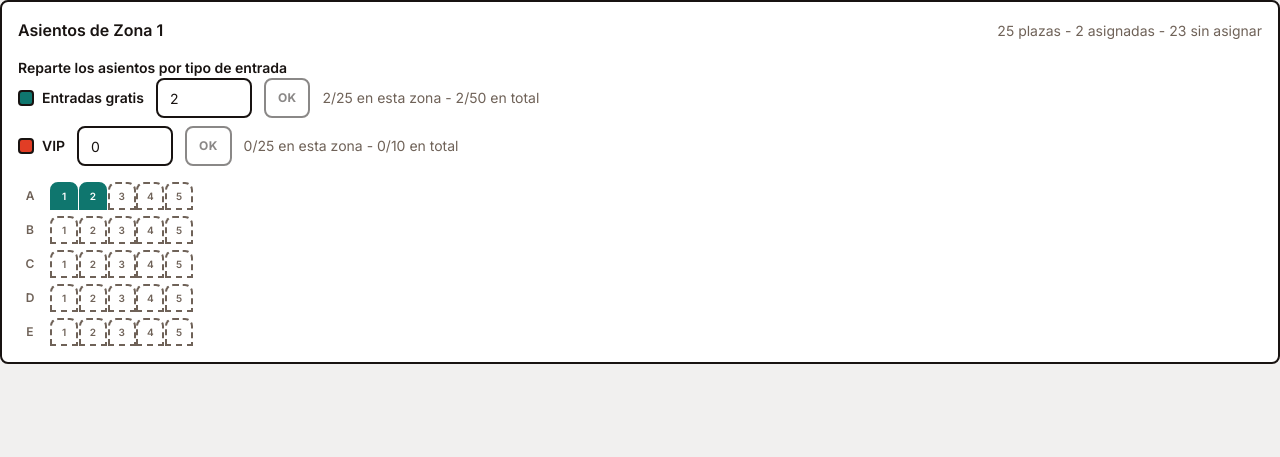
Test: ZoneSeatEditor › moving a seat › only offers moving when exactly one seat is selected
The width and height of the screenshot is (1280, 457).
What coordinates should you click on to do the following:
click the button named "Asiento A1 Entradas gratis"
I would click on:
 (64, 196)
Its box is [50, 182, 78, 210].
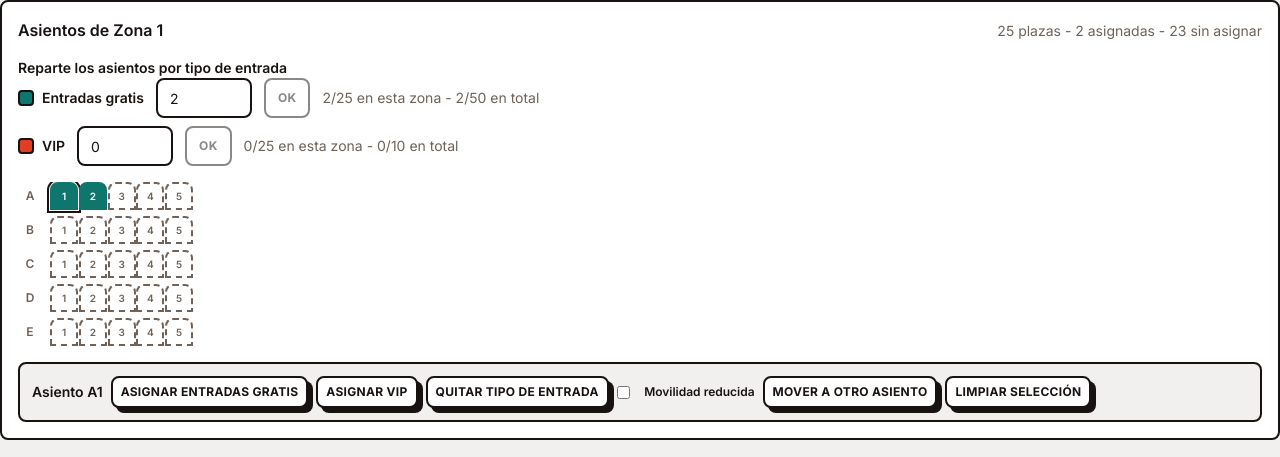
What coordinates should you click on to do the following:
click the 1st button "2"
I would click on:
 (93, 196)
Its box is [79, 182, 107, 210].
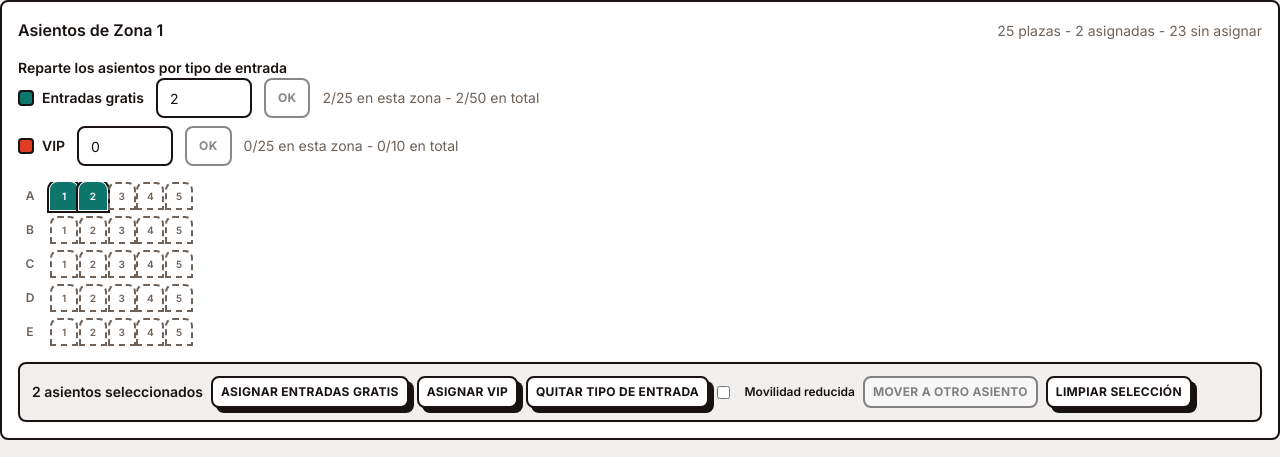
Now the button "Mover a otro asiento" is disabled, box [863, 376, 1038, 408]
